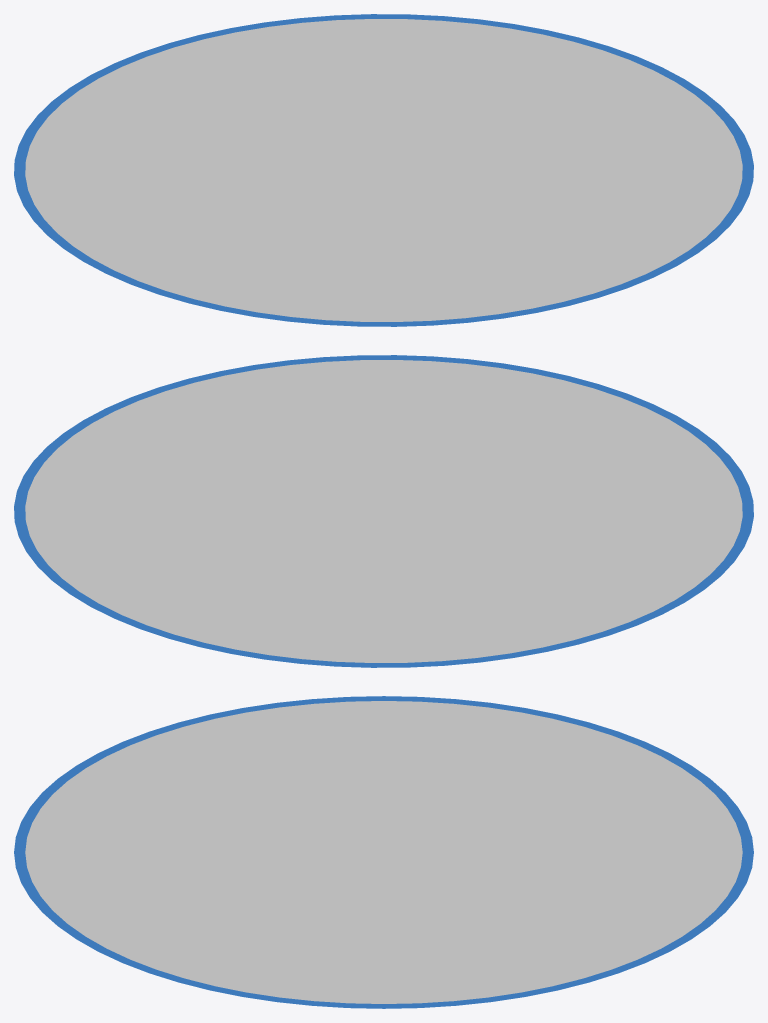
File: UserMarker_Circle.fbx
3 renders of one model, top to bottom at view 1: azimuth 30°, elevation 25°; view 2: azimuth 150°, elevation 25°; view 3: azimuth 270°, elevation 25°, orthographic.
Parts seen in each view (by area): view 1: Circle; view 2: Circle; view 3: Circle.
Boxes of the visible parts, <box> form: Circle: <box>14,14,753,326</box>; Circle: <box>14,355,753,667</box>; Circle: <box>14,696,753,1008</box>.
Size of the model in its own units: 5.86 by 0 by 5.86.
